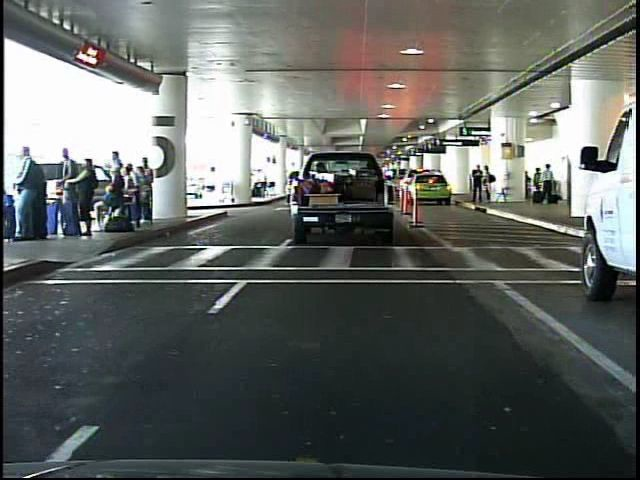person: (469, 161, 483, 205), (479, 164, 494, 205)
